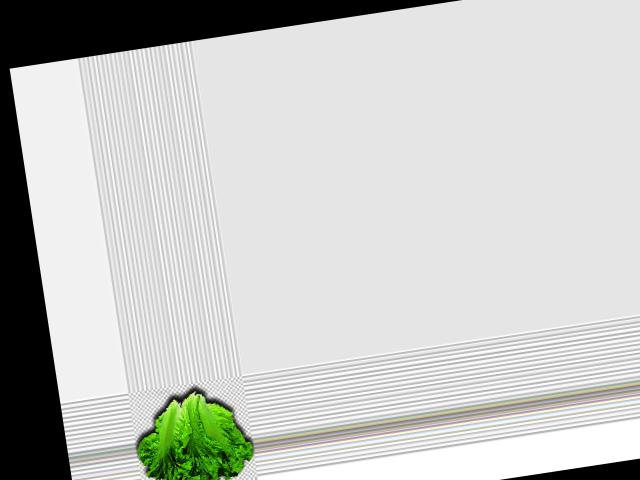lettuce: (127, 382, 254, 480)
